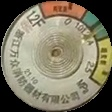green: (80, 10, 110, 40)
needle: (82, 24, 105, 44)
red: (38, 2, 89, 23)
yellow: (92, 40, 112, 87)
